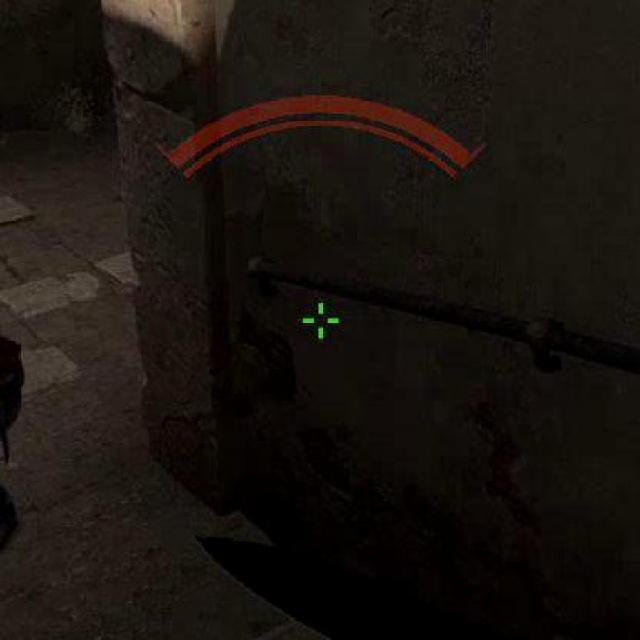T-Body: (0, 291, 40, 560)
